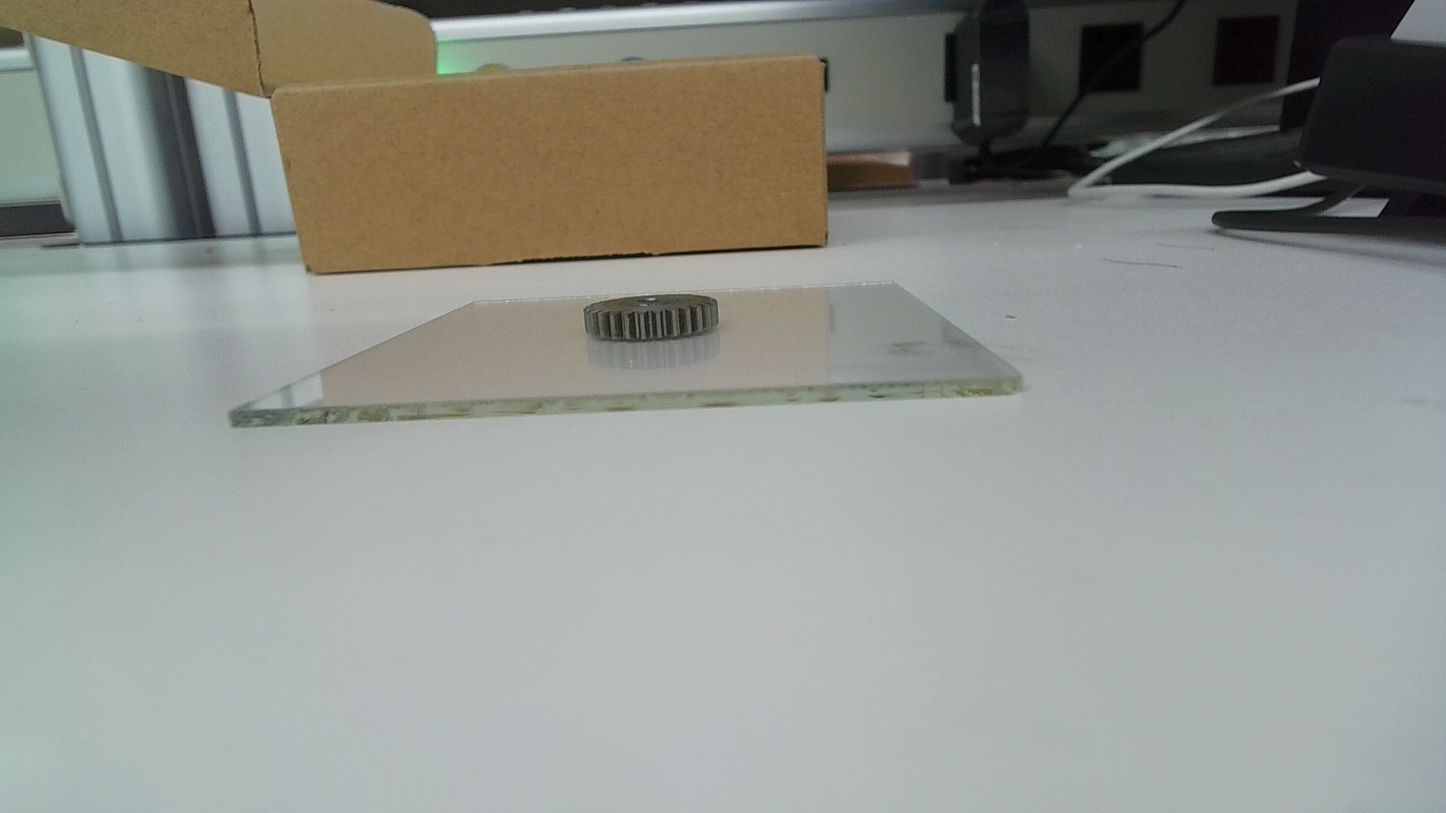gear: (582, 291, 722, 342)
